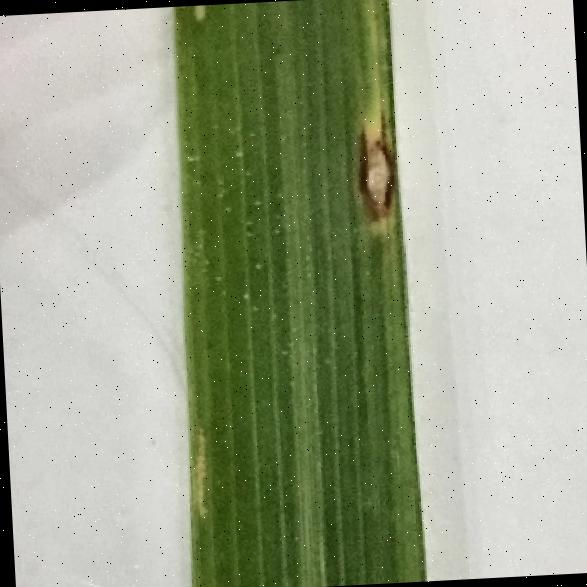Leaf_smut: (333, 102, 402, 229)
